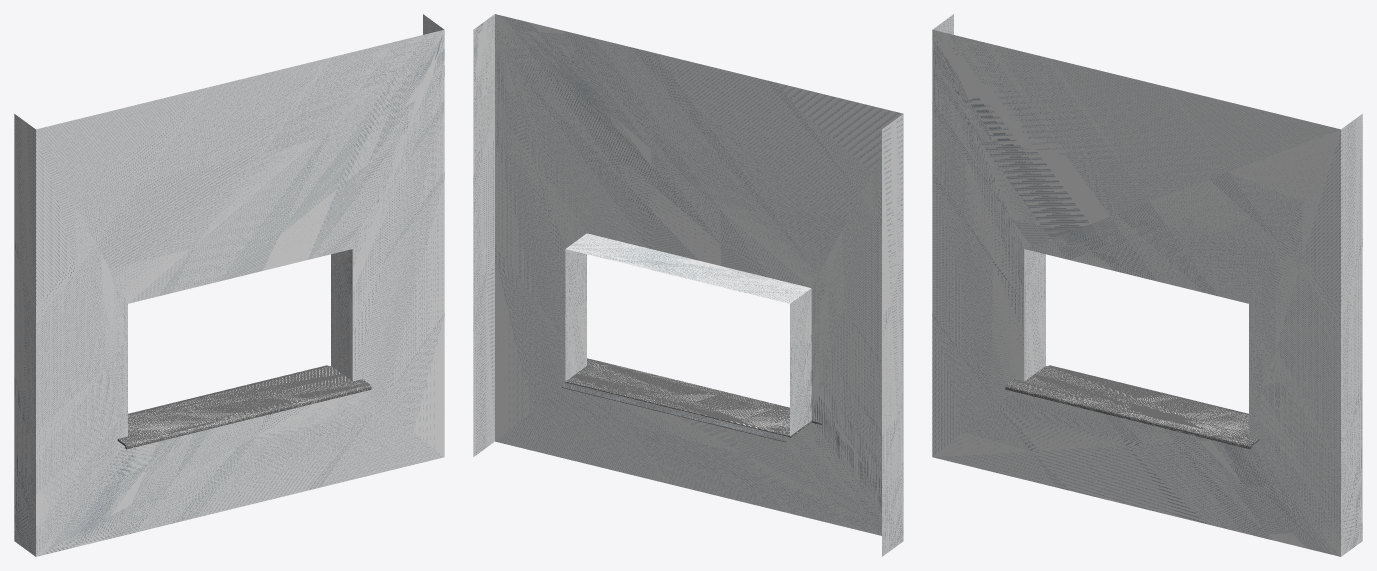
The model's file is WindowBlock_os_[400x400]_220x124x[090].dae.
The picture shows the model from 3 angles, left to right: view 1: azimuth 30°, elevation 25°; view 2: azimuth 150°, elevation 25°; view 3: azimuth 330°, elevation 25°; orthographic projection.
Parts seen in each view (by area): view 1: group_2 (×2), group_1; view 2: group_2 (×2), group_1 (×2); view 3: group_2 (×2), group_1.
Boxes of the visible parts, left/top/right/bottom form: group_2 (×2): left=14, top=14, right=444, bottom=556; group_1: left=117, top=366, right=371, bottom=449; group_2 (×2): left=473, top=14, right=903, bottom=556; group_1 (×2): left=561, top=358, right=821, bottom=442; group_2 (×2): left=932, top=14, right=1362, bottom=556; group_1: left=1005, top=366, right=1258, bottom=449.
Bounding box in the file's own units: 157 × 23.03 × 157.
